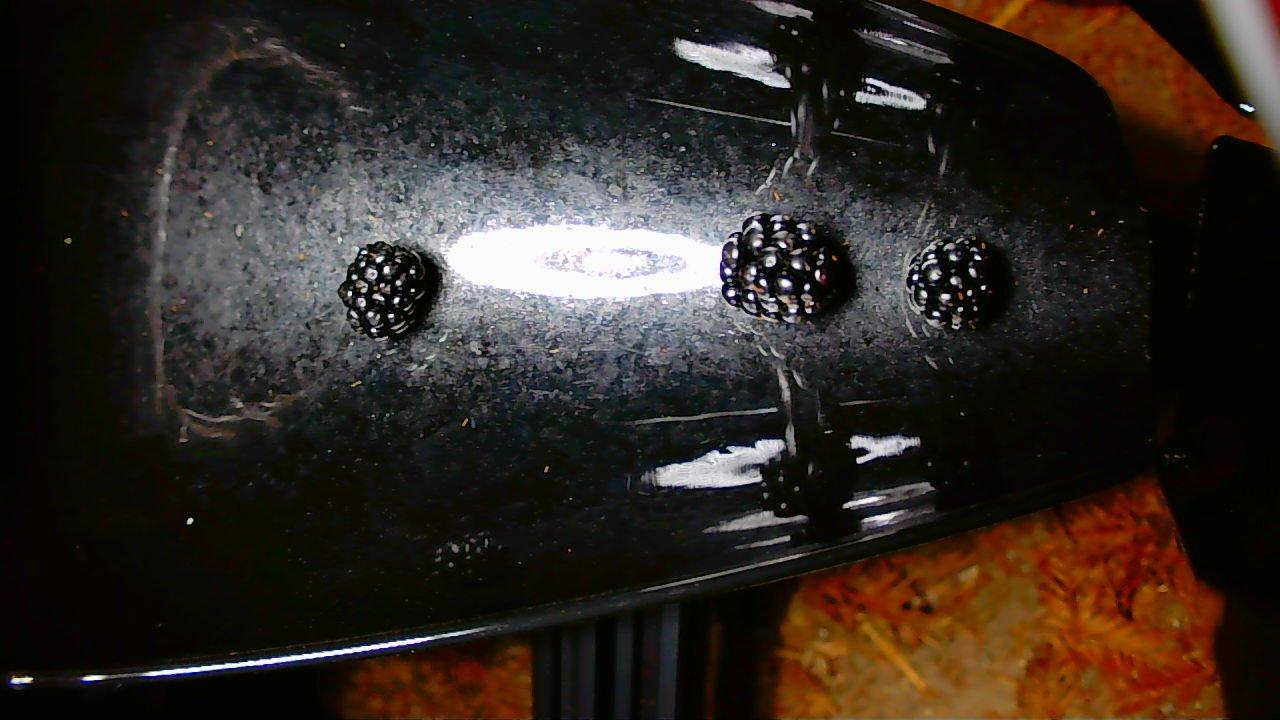berry: (719, 213, 851, 323), (338, 242, 429, 338), (905, 238, 1000, 329)
